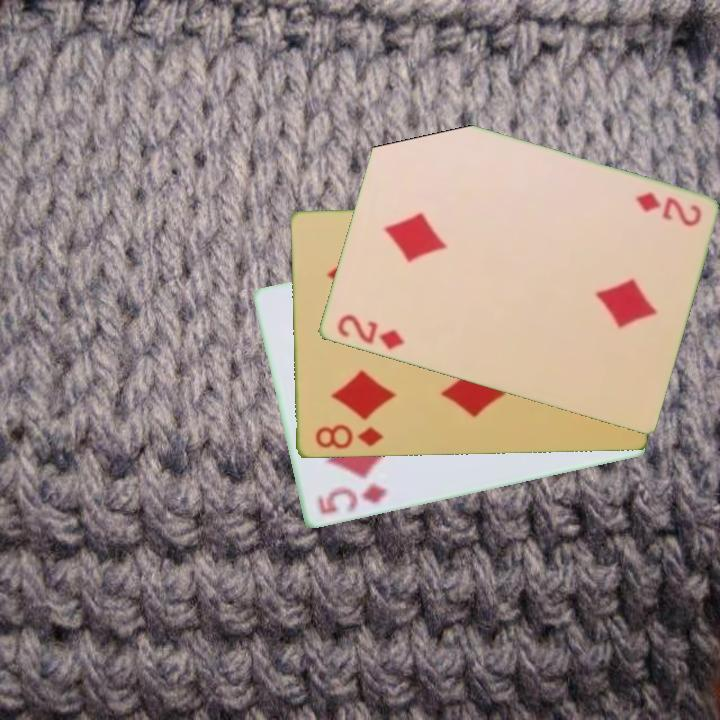2d: (333, 311, 407, 353), (631, 188, 704, 230)
5d: (314, 480, 389, 518)
8d: (311, 421, 386, 452)
